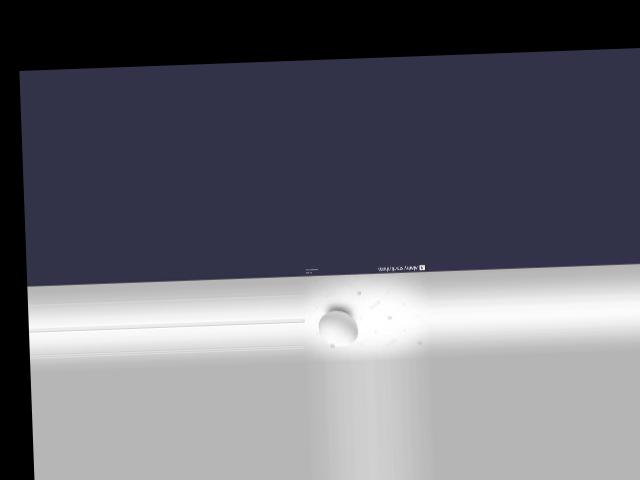egg: (317, 309, 357, 346)
